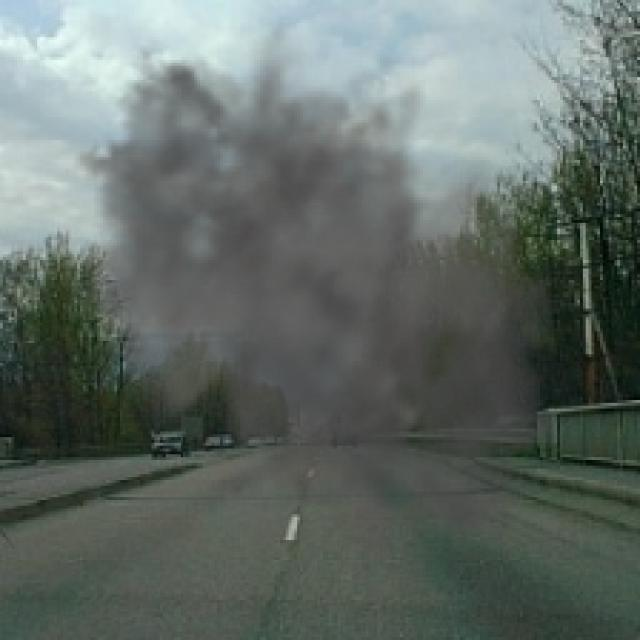smoke: (40, 17, 603, 577)
